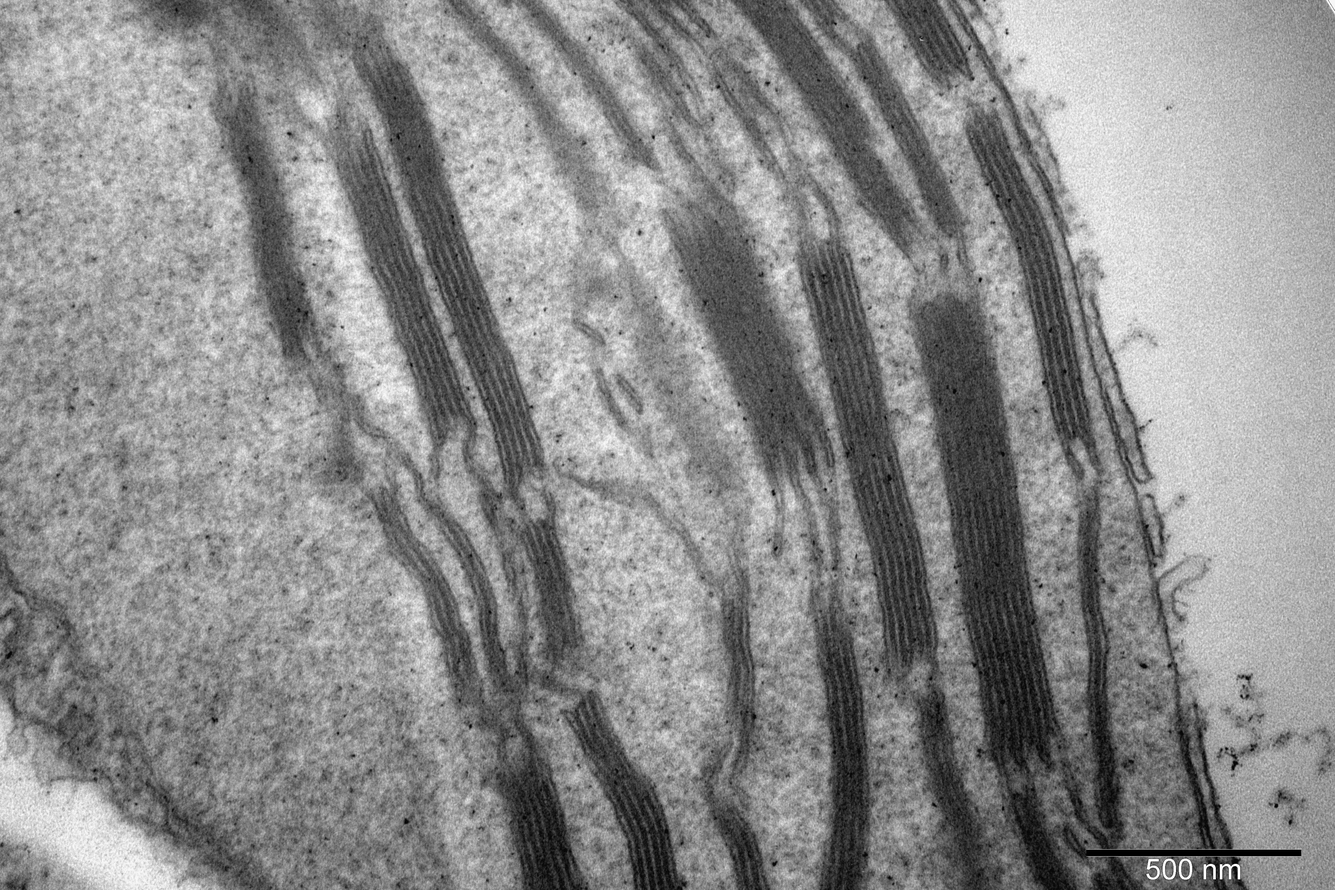granum: (336, 18, 548, 477), (907, 286, 1069, 766), (791, 228, 941, 683), (722, 0, 942, 262), (320, 125, 481, 445), (652, 178, 829, 466), (956, 99, 1096, 441), (206, 76, 327, 369), (451, 662, 582, 890), (832, 34, 976, 240), (556, 686, 686, 890), (806, 577, 874, 890), (911, 685, 1013, 890), (484, 750, 594, 890), (513, 513, 591, 669), (159, 795, 270, 885), (998, 784, 1081, 890), (876, 0, 974, 86), (713, 581, 759, 740), (699, 792, 773, 890), (1083, 854, 1157, 890), (793, 0, 855, 33)
